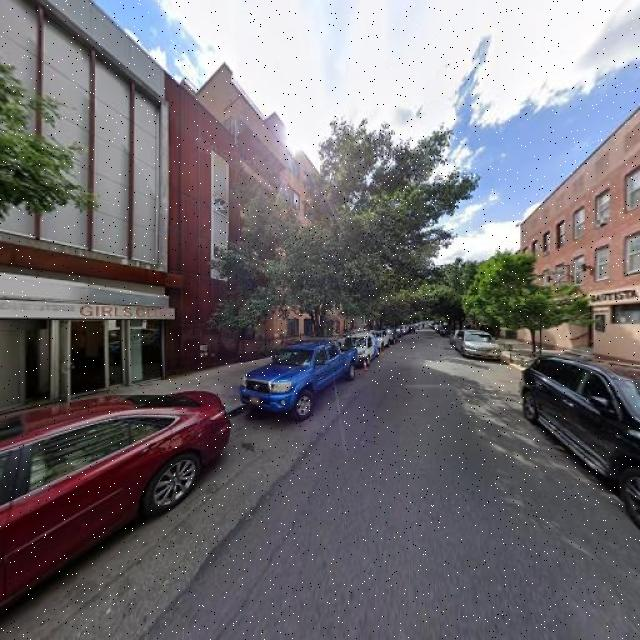Building: (1, 1, 240, 417), (525, 115, 640, 367), (243, 99, 354, 360)
